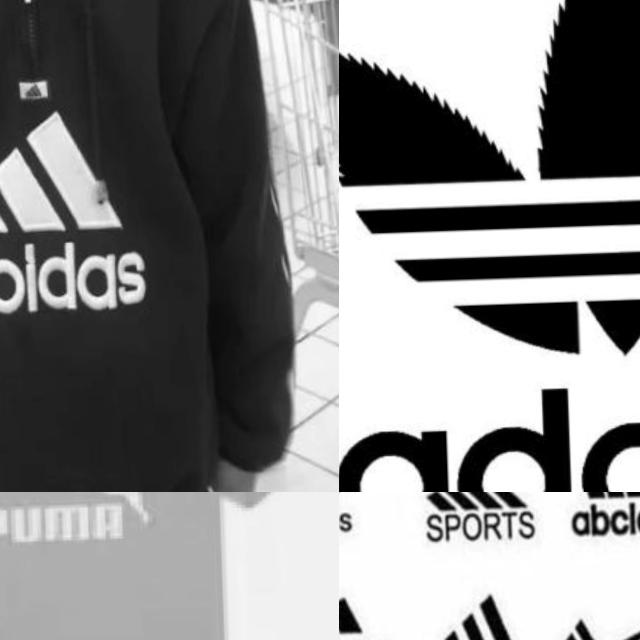ADIDAS_fake: (339, 0, 640, 492), (339, 0, 640, 383), (0, 225, 164, 328), (409, 492, 542, 555), (409, 580, 534, 640), (545, 576, 640, 640), (562, 492, 640, 553), (339, 569, 405, 640)
PUMA_original: (0, 492, 182, 568)
